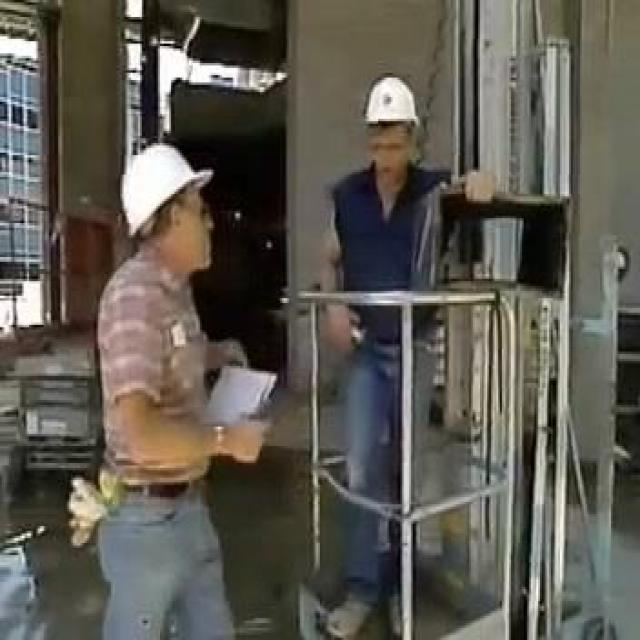Safety-Helmet: (106, 133, 218, 245), (353, 66, 427, 140)
